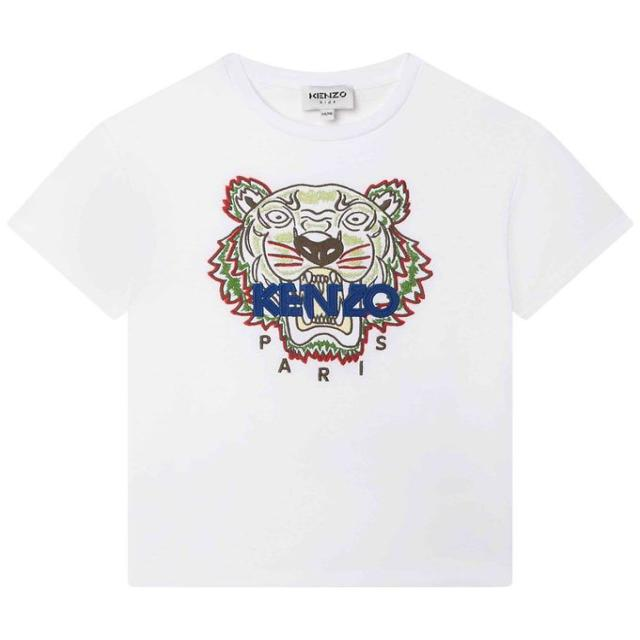shirt: (8, 53, 632, 586)
